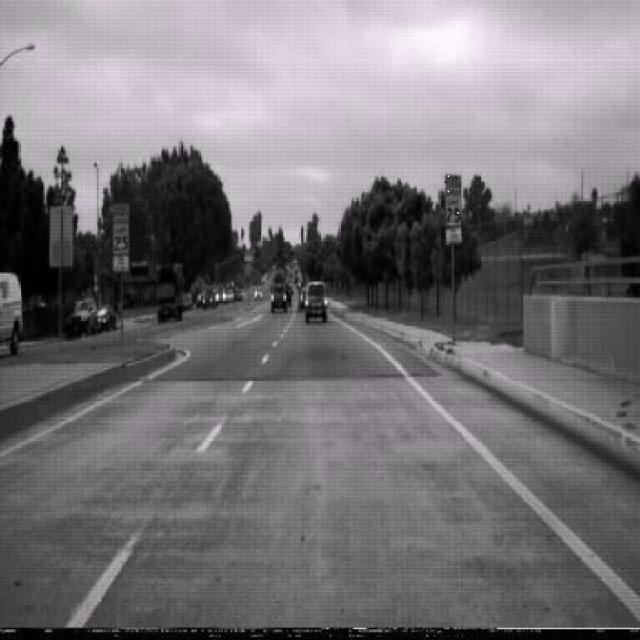schoolSpeedLimit25: (445, 172, 463, 245), (112, 202, 130, 272)
